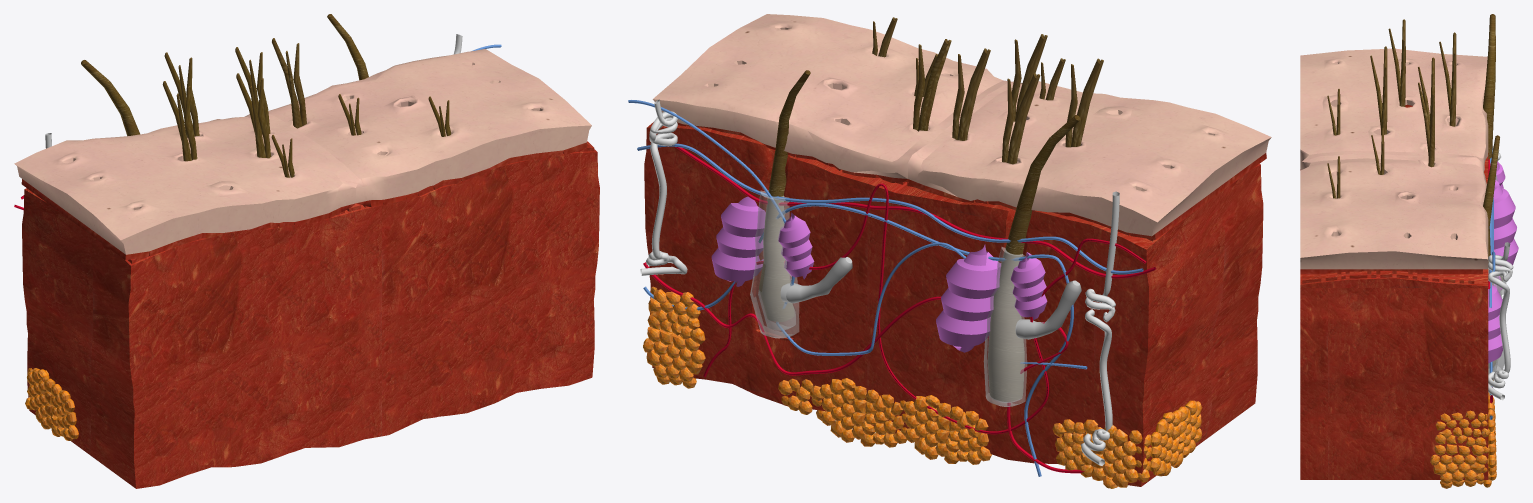
The model's file is skin_anatomy_1.fbx.
3 views of the same model, side by side, from view 1: azimuth 30°, elevation 25°; view 2: azimuth 150°, elevation 25°; view 3: azimuth 270°, elevation 25° (orthographic). The views are drawn at different scales.
Visible parts, largest first — view 1: polySurface1, back_hair_woman1:polySurface1, polySurface5, polySurface4, polySurface3, pCylinder21, polySurface2, polySurface7, back_hair_woman1:pCylinder21; view 2: polySurface1, back_hair_woman1:polySurface1, pCylinder21, pCylinder29, pCylinder23, pHelix1, back_hair_woman1:pCylinder21, back_hair_woman1:pHelix1, extrudedSurface1, extrudedSurface2, back_hair_woman1:extrudedSurface1, back_hair_woman1:extrudedSurface2 (+13 smaller); view 3: back_hair_woman1:polySurface1, polySurface1, extrudedSurface2, pHelix1, pCylinder21, back_hair_woman1:pHelix1, polySurface2, back_hair_woman1:pCylinder21, polySurface5, polySurface4, polySurface3, polySurface7 (+4 smaller).
Part boxes in pixels (box(x1,y1,x2,y2)): polySurface1: box(22, 141, 599, 488); back_hair_woman1:polySurface1: box(14, 49, 591, 260); polySurface5: box(272, 38, 306, 128); polySurface4: box(236, 73, 271, 158); polySurface3: box(162, 81, 197, 161); pCylinder21: box(81, 60, 139, 136); polySurface2: box(164, 52, 199, 137); polySurface7: box(235, 47, 270, 134); back_hair_woman1:pCylinder21: box(327, 14, 368, 80); polySurface1: box(644, 122, 1263, 486); back_hair_woman1:polySurface1: box(652, 14, 1271, 239); pCylinder21: box(988, 115, 1080, 401); pCylinder29: box(983, 247, 1027, 406); pCylinder23: box(750, 190, 799, 338); pHelix1: box(936, 244, 1000, 352); back_hair_woman1:pCylinder21: box(759, 70, 810, 321); back_hair_woman1:pHelix1: box(711, 196, 765, 286); extrudedSurface1: box(1081, 191, 1119, 465); extrudedSurface2: box(640, 99, 687, 275); back_hair_woman1:extrudedSurface1: box(703, 183, 1146, 434); back_hair_woman1:extrudedSurface2: box(643, 203, 1073, 476); back_hair_woman1:polySurface1: box(1300, 48, 1488, 274); polySurface1: box(1300, 153, 1488, 479); extrudedSurface2: box(1488, 242, 1513, 400); pHelix1: box(1493, 180, 1518, 266); pCylinder21: box(1483, 14, 1502, 280); back_hair_woman1:pHelix1: box(1488, 285, 1502, 363); polySurface2: box(1439, 32, 1456, 126); back_hair_woman1:pCylinder21: box(1483, 135, 1499, 367); polySurface5: box(1418, 73, 1434, 167); polySurface4: box(1370, 46, 1387, 135); polySurface3: box(1388, 19, 1405, 106); polySurface7: box(1418, 57, 1434, 129).
Size of the model in its own units: 15.66 by 11.24 by 6.85.
